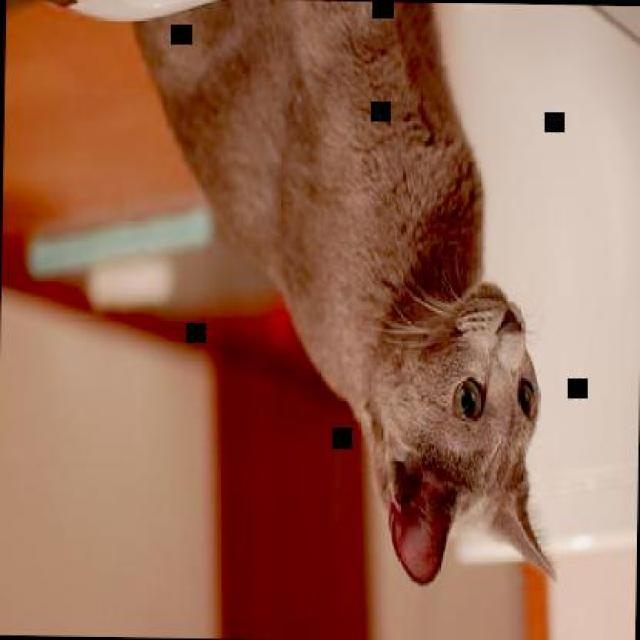cat: (121, 0, 572, 592)
